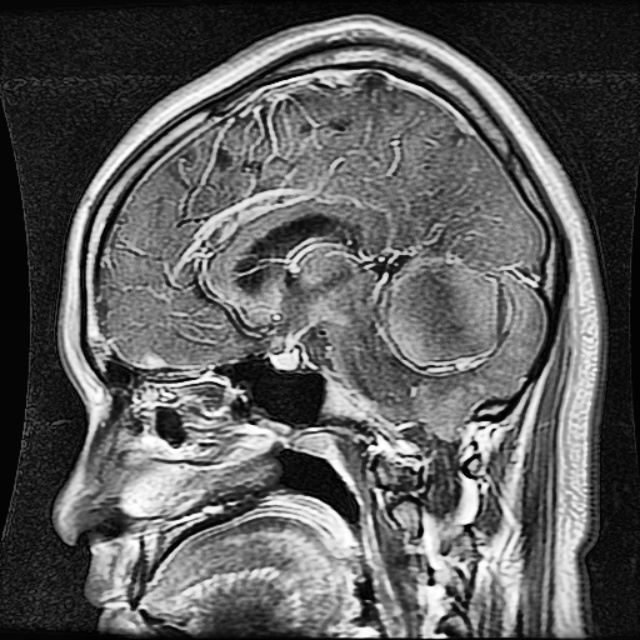Meningioma: (383, 258, 504, 373)
